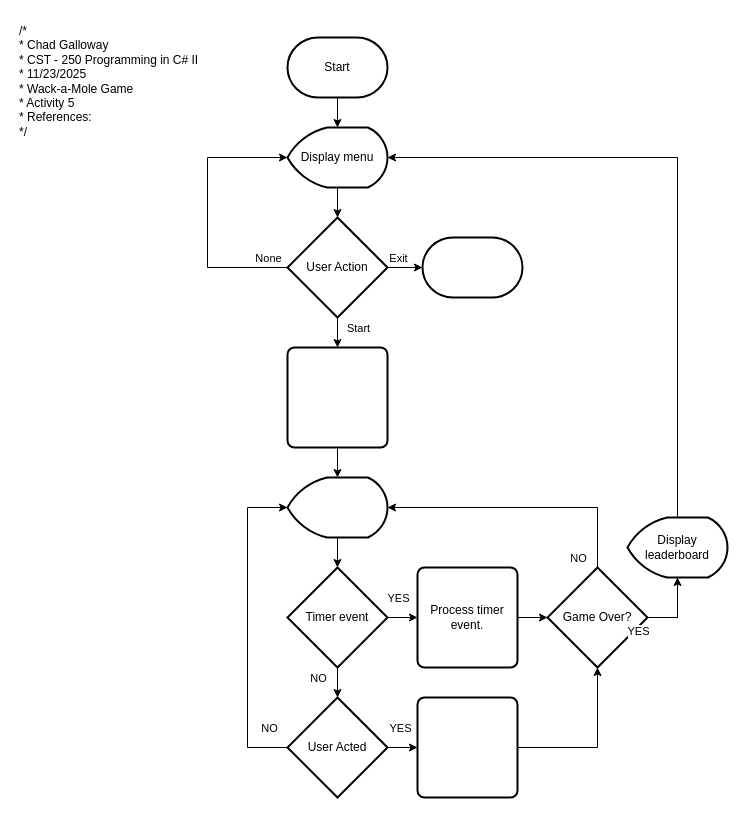
Image size: 753x815. Some labels were removed from this diagram. The shapes that lost their labels are listed below. From the top down, each one's centre as x and y in pixels, then its label:
At [472,267]: "End".
At [337,397]: "Create game and start timers".
At [337,507]: "Display game state".
At [467,747]: "Process user action".
